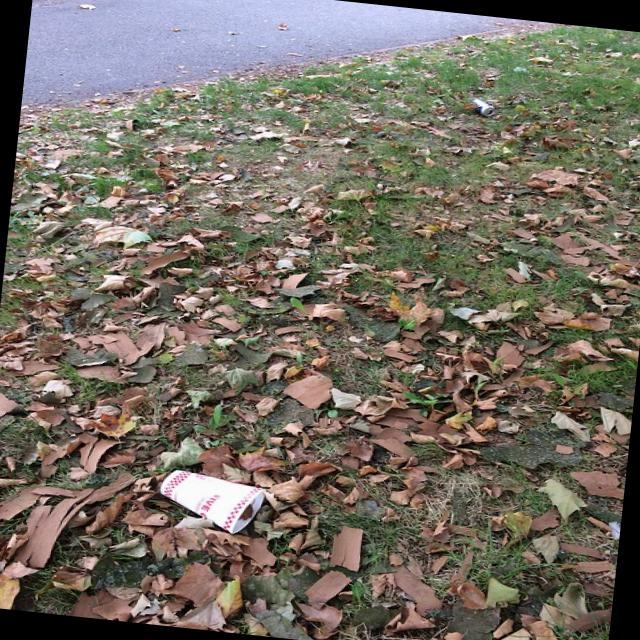Trash: (153, 463, 270, 536)
